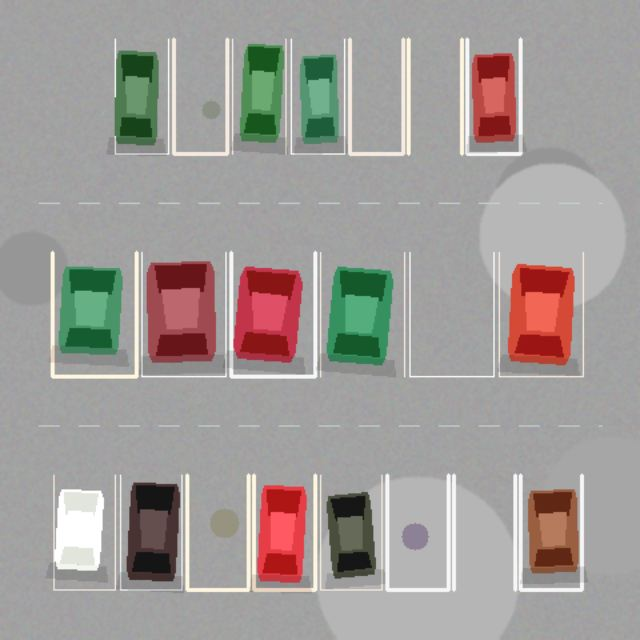space-empty: (409, 252, 493, 376), (453, 475, 515, 589), (187, 475, 248, 589), (387, 475, 448, 589), (173, 39, 227, 153), (349, 39, 403, 153), (408, 39, 461, 153)
space-occupied: (52, 252, 136, 376), (141, 252, 225, 376), (231, 252, 315, 376), (320, 252, 404, 376), (499, 252, 583, 376), (53, 475, 115, 589), (253, 475, 315, 589), (120, 475, 181, 589), (320, 475, 381, 589), (520, 475, 581, 589), (115, 39, 168, 153), (232, 39, 285, 153), (291, 39, 344, 153), (467, 39, 520, 153)
